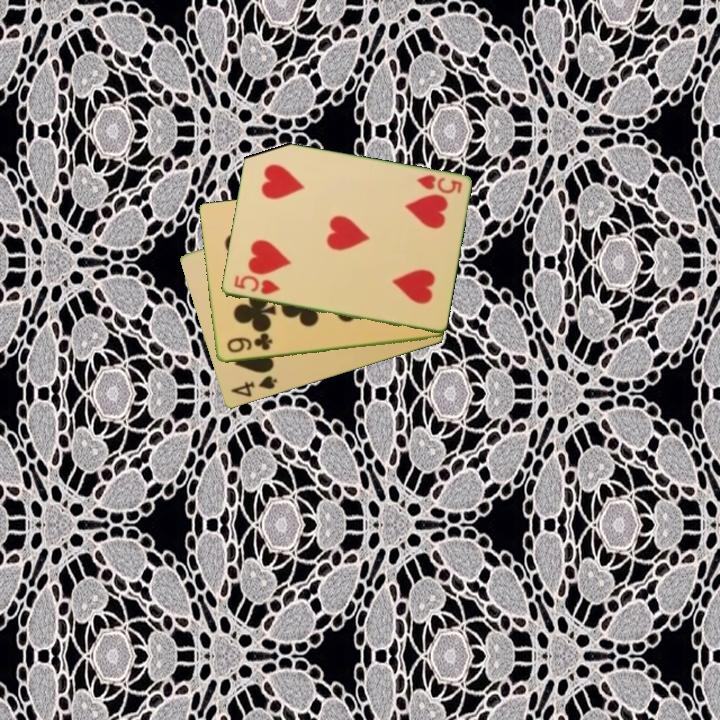4s: (227, 372, 280, 400)
5h: (230, 272, 283, 298), (413, 171, 464, 197)
9c: (223, 332, 275, 356)
